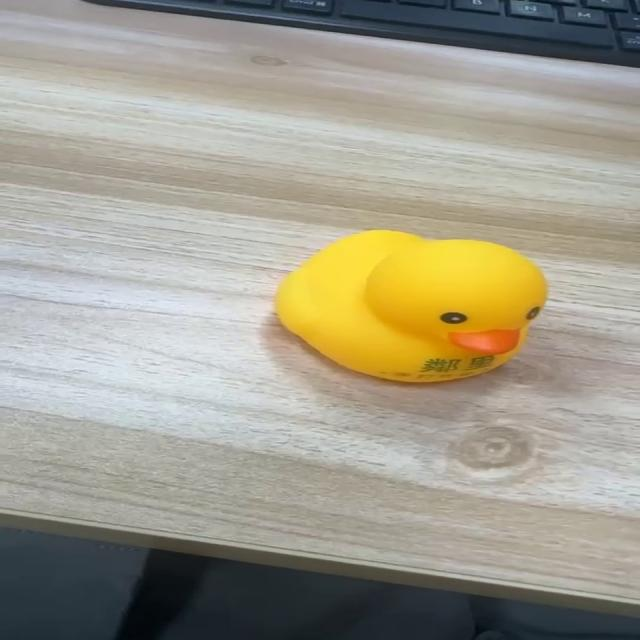yellow_duck: (271, 228, 549, 383)
